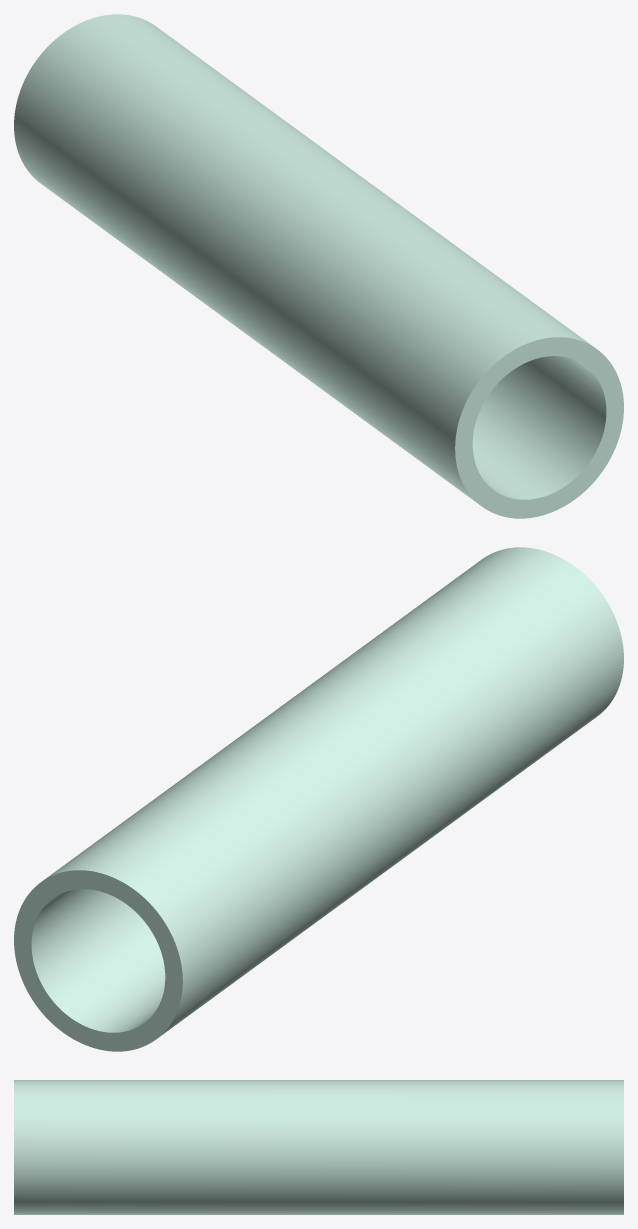
3 renders of one model, top to bottom at view 1: azimuth 30°, elevation 25°; view 2: azimuth 150°, elevation 25°; view 3: azimuth 270°, elevation 25°, orthographic. The views are drawn at different scales.
Visible parts, largest first — view 1: Renderer Node; view 2: Renderer Node; view 3: Renderer Node.
Part boxes in pixels (x1,y1,x2,y2): Renderer Node: (14, 14, 623, 518); Renderer Node: (14, 547, 623, 1051); Renderer Node: (14, 1080, 623, 1214).
Size of the model in its own units: 0.1657 by 0.1658 by 0.75.
